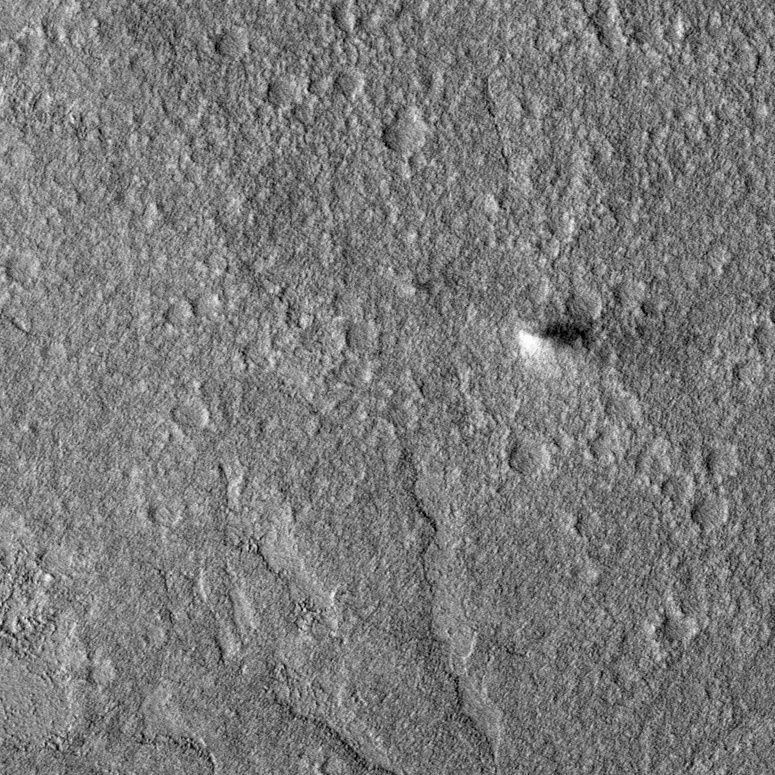dust_devil: (517, 316, 595, 361)
